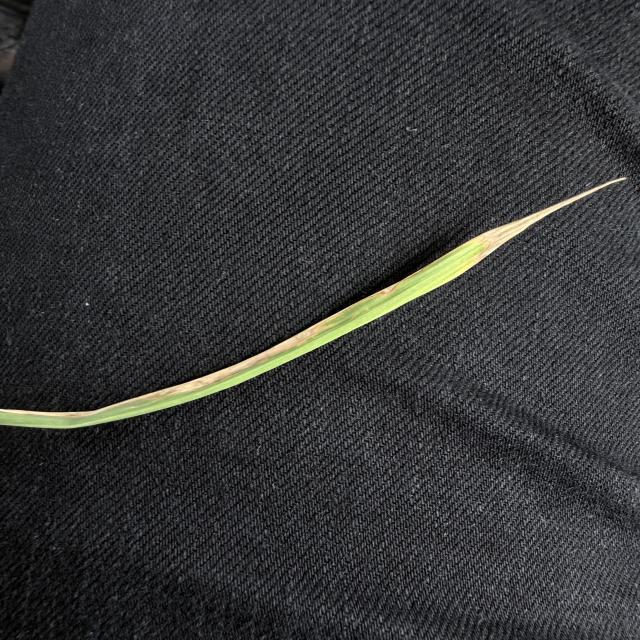Chay bia la: (0, 179, 628, 420)
